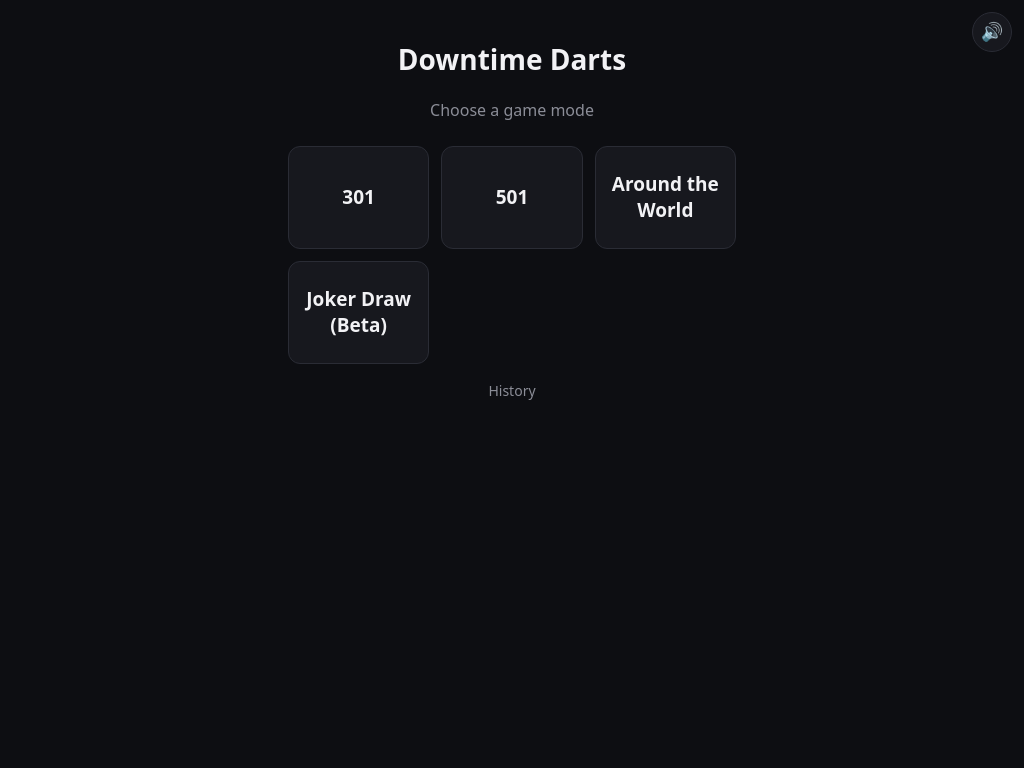
Test case: mode select & player setup › lets you pick a mode, then add and remove players
The image size is (1024, 768).
Expected: the button "301" is shown, [288,146,429,249]
Click the button "501" at (512, 197), box [441,146,583,249]
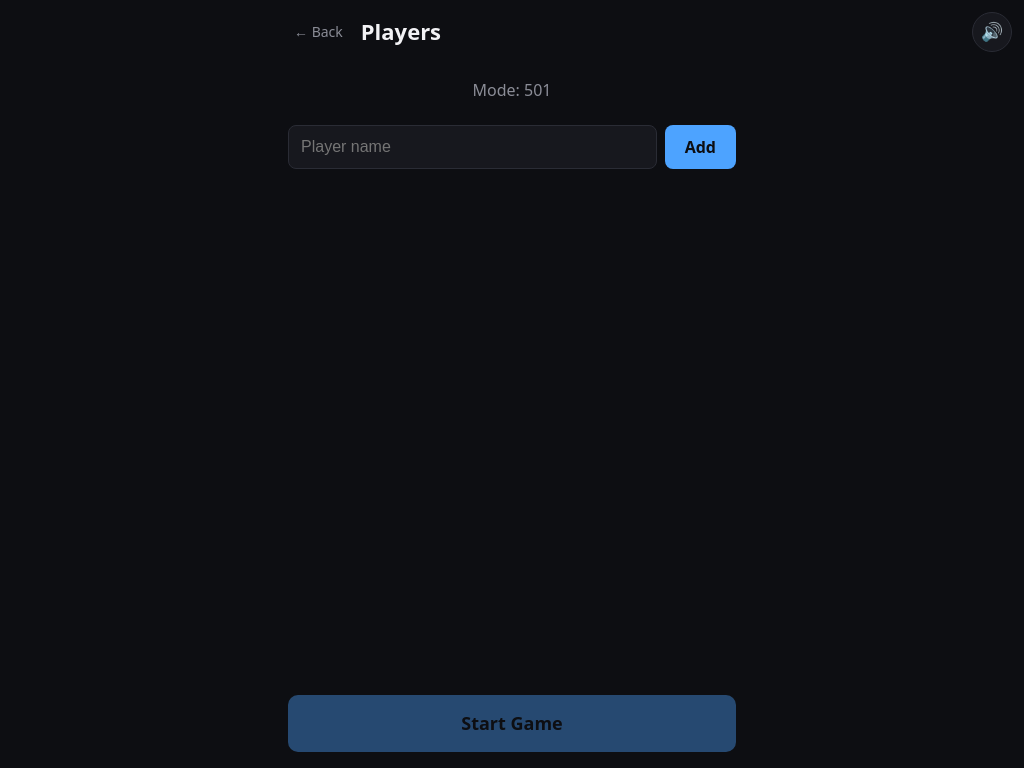
Now the text "Mode: 501" is shown, box [472,79,552,101]
Now the button "Start Game" is disabled, box [288,695,736,752]
Type "Hunter" into the field with placeholder "Player name" at (472, 147), box [288,125,657,169]
Then press Enter
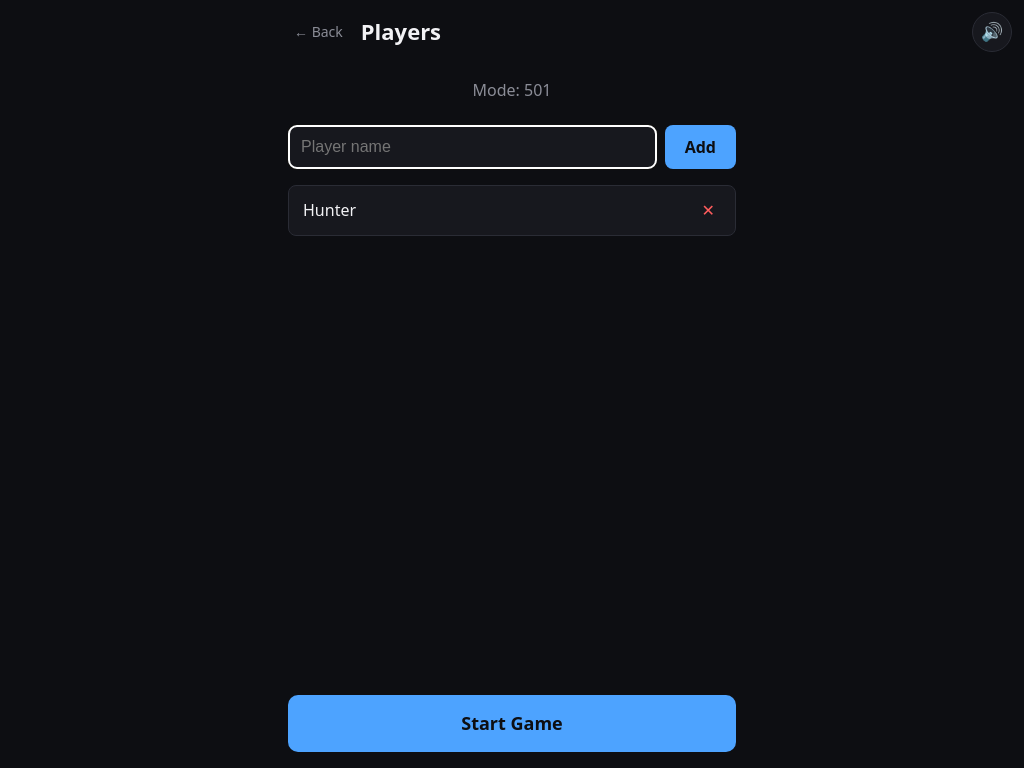
Type "Friend" into the field with placeholder "Player name" at (472, 147), box [288,125,657,169]
Then press Enter
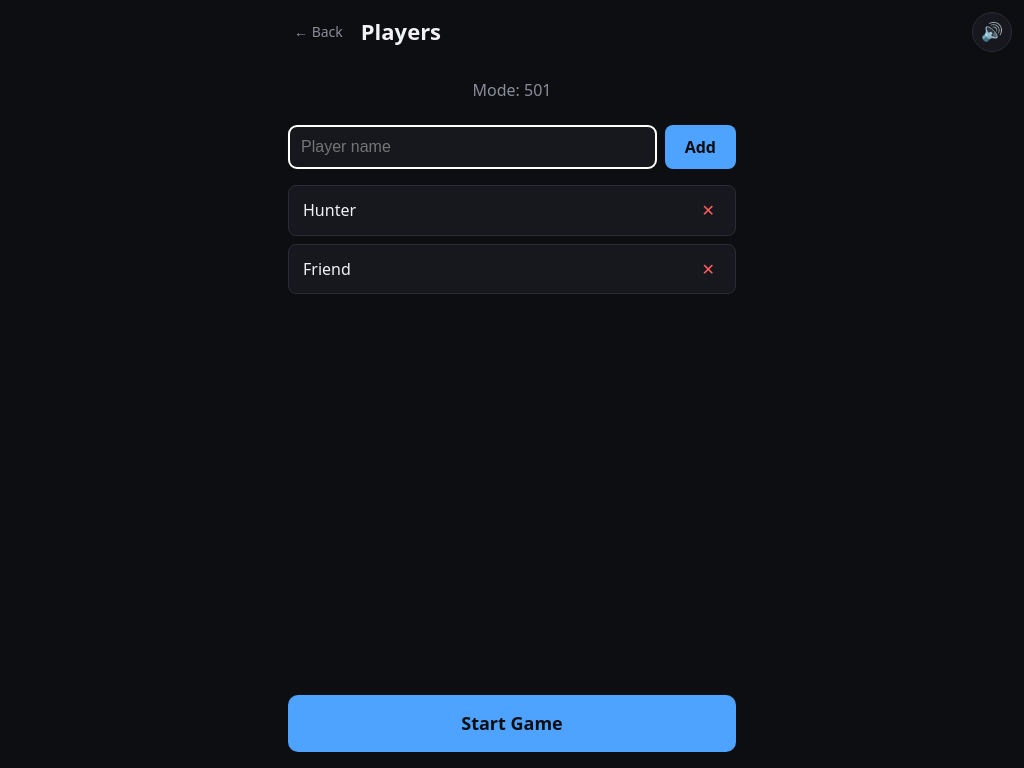
Now the text "Hunter" is shown, box [303,199,356,222]
Now the button "Start Game" is enabled, box [288,695,736,752]
Now the text "Friend" is shown, box [303,258,351,280]
Click the button "✕" in the row of "Hunter" at (708, 210), box [696,198,721,223]
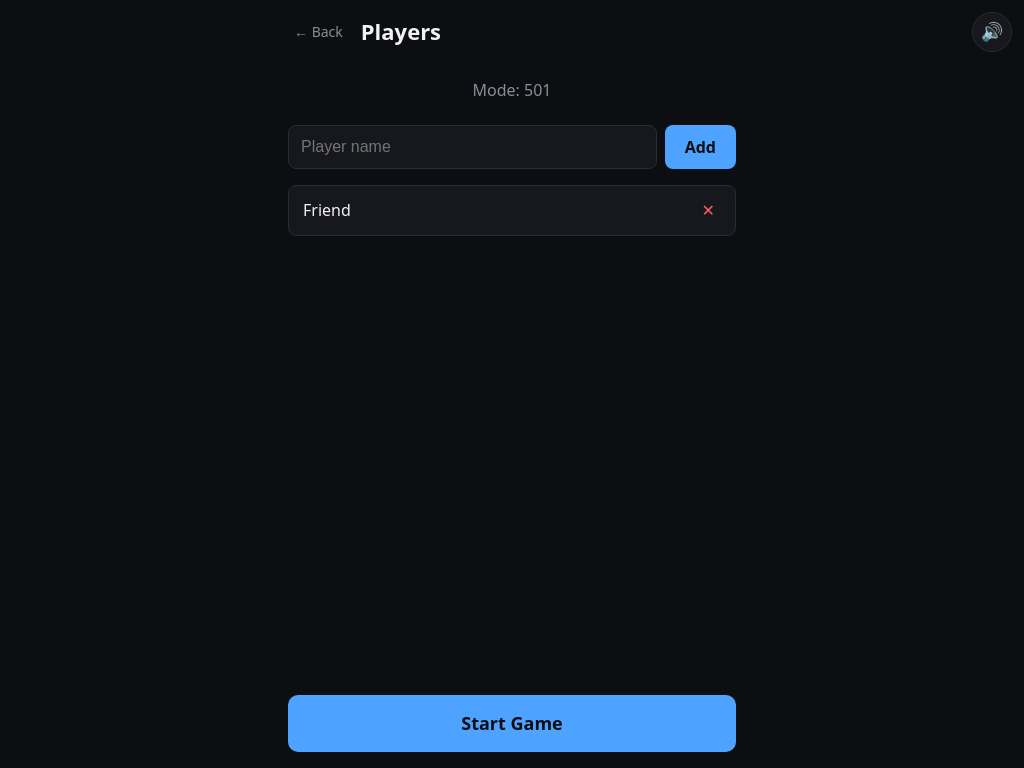
Now the text "Hunter" is gone
